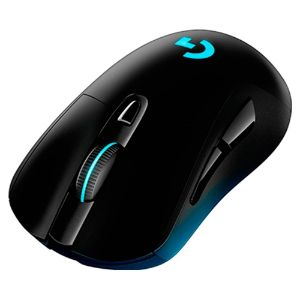mouse: (8, 24, 294, 275)
